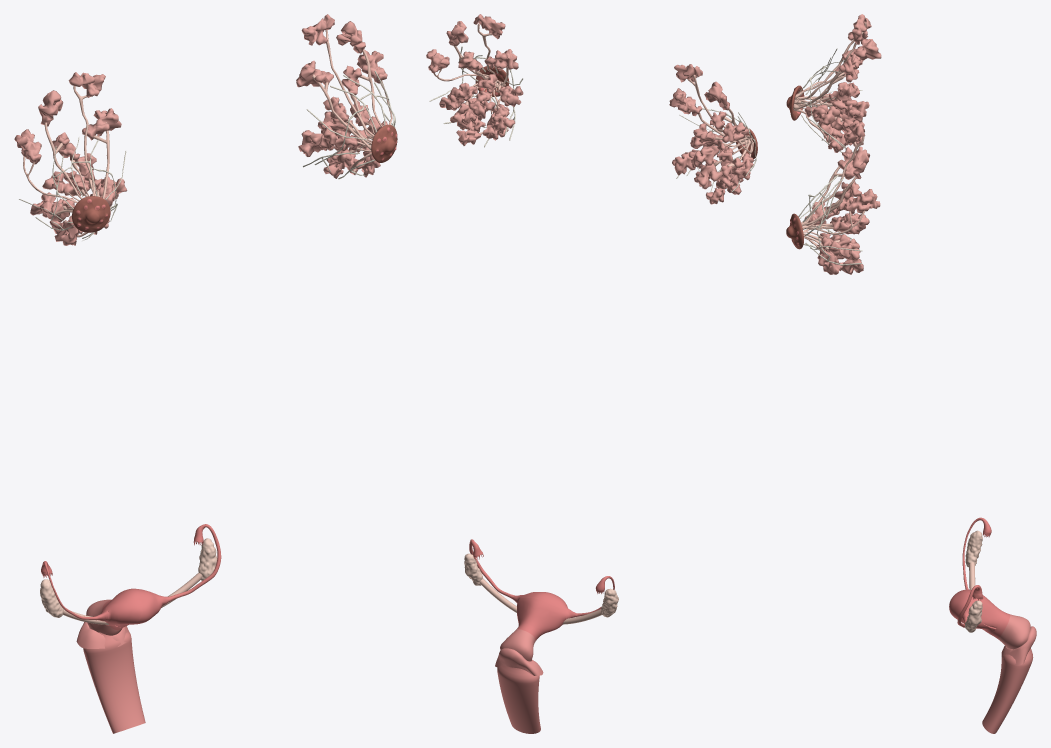
The model's file is genital-feminino.glb.
The picture shows the model from 3 angles, left to right: view 1: azimuth 30°, elevation 25°; view 2: azimuth 150°, elevation 25°; view 3: azimuth 270°, elevation 25°; orthographic projection. The views are drawn at different scales.
Visible parts, largest first — view 1: VHF_mammary_lobes_L, VHF_mammary_lobes_R, VHF_vagina, VHF_fundus_of_uterus, VHF_main_lactiferous_ducts_R, VHF_main_lactiferous_ducts_L, VHF_suspensory_ligaments_L, VHF_areola_R, VHF_suspensory_ligaments_R, VHF_cervicovaginal_junction, VHF_areola_L; view 2: VHF_mammary_lobes_L, VHF_mammary_lobes_R, VHF_vagina, VHF_body_of_uterus, VHF_main_lactiferous_ducts_R, VHF_cervicovaginal_junction, VHF_cervix, VHF_main_lactiferous_ducts_L; view 3: VHF_mammary_lobes_L, VHF_mammary_lobes_R, VHF_vagina, VHF_main_lactiferous_ducts_L, VHF_main_lactiferous_ducts_R, VHF_suspensory_ligaments_L, VHF_cervix, VHF_suspensory_ligaments_R, VHF_body_of_uterus, VHF_cervicovaginal_junction, VHF_fundus_of_uterus, VHF_right_ovary.
Boxes of the visible parts, bbox=[...] form: VHF_mammary_lobes_L: bbox=[296, 14, 387, 178]; VHF_mammary_lobes_R: bbox=[14, 72, 127, 245]; VHF_vagina: bbox=[83, 632, 145, 733]; VHF_fundus_of_uterus: bbox=[104, 588, 162, 624]; VHF_main_lactiferous_ducts_R: bbox=[23, 86, 109, 237]; VHF_main_lactiferous_ducts_L: bbox=[312, 30, 392, 172]; VHF_suspensory_ligaments_L: bbox=[303, 70, 395, 179]; VHF_areola_R: bbox=[72, 196, 110, 232]; VHF_suspensory_ligaments_R: bbox=[19, 137, 126, 240]; VHF_cervicovaginal_junction: bbox=[76, 622, 130, 648]; VHF_areola_L: bbox=[371, 124, 397, 162]; VHF_mammary_lobes_L: bbox=[426, 14, 523, 145]; VHF_mammary_lobes_R: bbox=[669, 64, 753, 204]; VHF_vagina: bbox=[497, 665, 540, 733]; VHF_body_of_uterus: bbox=[517, 598, 566, 635]; VHF_main_lactiferous_ducts_R: bbox=[687, 74, 753, 187]; VHF_cervicovaginal_junction: bbox=[495, 648, 543, 675]; VHF_cervix: bbox=[500, 629, 534, 661]; VHF_main_lactiferous_ducts_L: bbox=[433, 23, 508, 134]; VHF_mammary_lobes_L: bbox=[804, 120, 880, 274]; VHF_mammary_lobes_R: bbox=[804, 14, 881, 152]; VHF_vagina: bbox=[982, 646, 1033, 733]; VHF_main_lactiferous_ducts_L: bbox=[801, 133, 864, 250]; VHF_main_lactiferous_ducts_R: bbox=[795, 22, 866, 141]; VHF_suspensory_ligaments_L: bbox=[798, 174, 862, 265]; VHF_cervix: bbox=[997, 614, 1030, 649]; VHF_suspensory_ligaments_R: bbox=[798, 48, 862, 152]; VHF_body_of_uterus: bbox=[976, 595, 1002, 627]; VHF_cervicovaginal_junction: bbox=[1001, 626, 1036, 665]; VHF_fundus_of_uterus: bbox=[949, 589, 978, 622]; VHF_right_ovary: bbox=[965, 530, 982, 567].
Bounding box in the file's own units: 0.2698 × 0.5243 × 0.1797.
